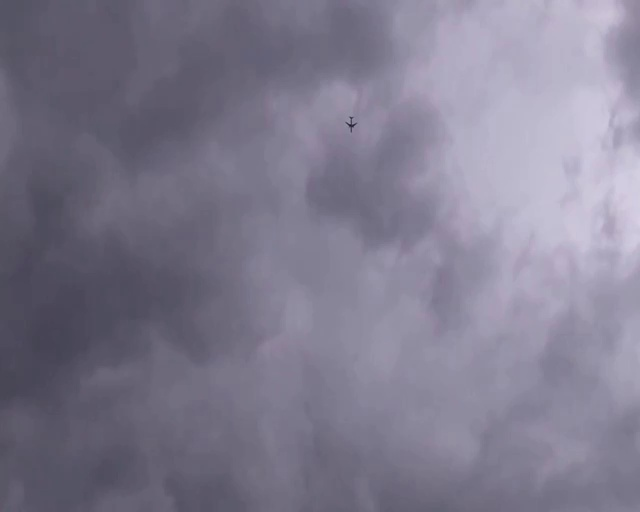AIRPLANE: (343, 114, 359, 132)
